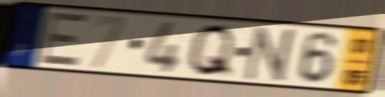4: (144, 19, 181, 74)
6: (297, 30, 340, 87)
7: (89, 12, 131, 72)
E: (36, 10, 92, 68)
N: (241, 25, 301, 85)
Q: (185, 22, 237, 80)
